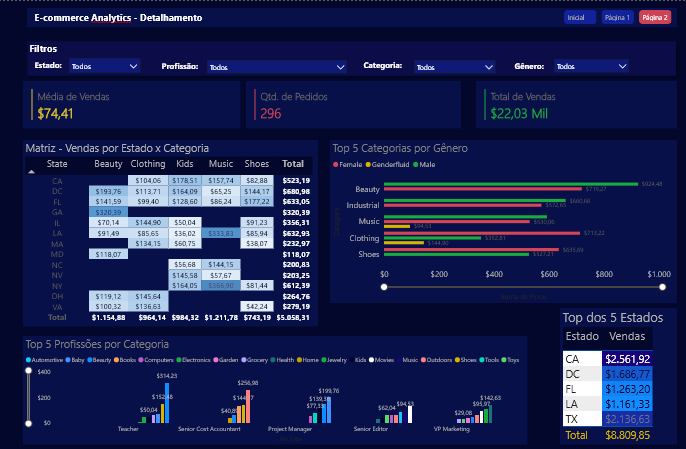

The page's visual inventory and layout, read from the dashboard file:
{"tool":"powerbi","page":{"name":"Página 2","canvas":[1400,900],"ordinal":2},"visuals":[{"type":"pivotTable","title":"Matriz - Vendas por Estado x Categoria","fields":{"Rows":["dados_ecommerce_final.state_name"],"Columns":["dados_ecommerce_final.Category"],"Values":["Sum(dados_ecommerce_final.Price)"]},"box":[50,278.3,590,373.3],"z":0},{"type":"tableEx","title":"Top dos 5 Estados","fields":{"Values":["dados_ecommerce_final.state_name","Sum(dados_ecommerce_final.Price)"]},"box":[1124.3,614.3,234.3,272.9],"z":1000},{"type":"cardVisual","title":"Total de Vendas","fields":{"Data":["Sum(dados_ecommerce_final.Price)"]},"box":[955,160,401.7,95],"z":2000},{"type":"cardVisual","title":"Total de Vendas","fields":{"Data":["Avg(dados_ecommerce_final.Price)"]},"box":[50,160,435,95],"z":3000},{"type":"cardVisual","title":"Total de Vendas","fields":{"Data":["dados_ecommerce_final.Qtd_Pedidos"]},"box":[496.7,160,430,95],"z":4000},{"type":"shape","box":[49.7,72.7,1315,86.7],"z":5000},{"type":"slicer","fields":{"Values":["dados_ecommerce_final.state_name"]},"box":[131.3,104.3,162.5,45],"z":6000},{"type":"textbox","box":[68,112.7,76.7,36.7],"z":7000},{"type":"slicer","fields":{"Values":["dados_ecommerce_final.Job_Title"]},"box":[407.6,108.1,300,43.8],"z":8000},{"type":"textbox","box":[322.6,113.1,91.2,36.2],"z":9000},{"type":"slicer","fields":{"Values":["dados_ecommerce_final.Category"]},"box":[821.3,108.1,182.5,43.8],"z":10000},{"type":"textbox","box":[726.3,111.8,95,36.2],"z":11000},{"type":"slicer","fields":{"Values":["dados_ecommerce_final.Gender"]},"box":[1102.6,105.6,170,51.2],"z":12000},{"type":"textbox","box":[1028.8,113.1,95,36.2],"z":13000},{"type":"textbox","box":[58,76,155,36.7],"z":14000},{"type":"shape","box":[57.7,13.3,1300,38],"z":15000},{"type":"textbox","box":[67.7,14.3,510,48],"z":16000},{"type":"clusteredBarChart","title":"Top 5 Categorias por Gênero","fields":{"Series":["dados_ecommerce_final.Gender"],"Category":["dados_ecommerce_final.Category"],"Y":["Sum(dados_ecommerce_final.Price)"]},"box":[664,278,694,326],"z":16001},{"type":"clusteredColumnChart","title":"Top 5 Profissões por Categoria","fields":{"Category":["dados_ecommerce_final.Job_Title"],"Y":["Sum(dados_ecommerce_final.Price)"],"Series":["dados_ecommerce_final.Category"]},"box":[50,670,1008.6,217.1],"z":16002},{"type":"pageNavigator","box":[1132.9,18.6,215.7,28.6],"z":16003}]}

Visuals, with their boxes in screenshot pixels (x1, y1, x2, y2), scaled from the page's 1400x900 canvas onto the 686x449 screenshot:
"Matriz - Vendas por Estado x Categoria" pivotTable: Rect(24, 139, 314, 325)
"Top dos 5 Estados" tableEx: Rect(551, 306, 666, 443)
"Total de Vendas" cardVisual: Rect(468, 80, 665, 127)
"Total de Vendas" cardVisual: Rect(24, 80, 238, 127)
"Total de Vendas" cardVisual: Rect(243, 80, 454, 127)
shape: Rect(24, 36, 669, 80)
slicer - dados_ecommerce_final.state_name: Rect(64, 52, 144, 74)
textbox: Rect(33, 56, 71, 75)
slicer - dados_ecommerce_final.Job_Title: Rect(200, 54, 347, 76)
textbox: Rect(158, 56, 203, 74)
slicer - dados_ecommerce_final.Category: Rect(402, 54, 492, 76)
textbox: Rect(356, 56, 402, 74)
slicer - dados_ecommerce_final.Gender: Rect(540, 53, 624, 78)
textbox: Rect(504, 56, 551, 74)
textbox: Rect(28, 38, 104, 56)
shape: Rect(28, 7, 665, 26)
textbox: Rect(33, 7, 283, 31)
"Top 5 Categorias por Gênero" clusteredBarChart: Rect(325, 139, 665, 301)
"Top 5 Profissões por Categoria" clusteredColumnChart: Rect(24, 334, 519, 443)
pageNavigator: Rect(555, 9, 661, 24)
